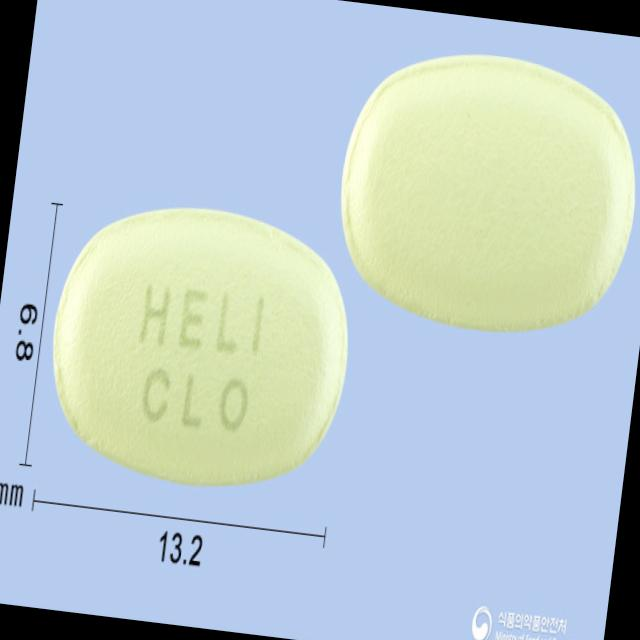Heliclo Tab: (38, 188, 366, 504)
